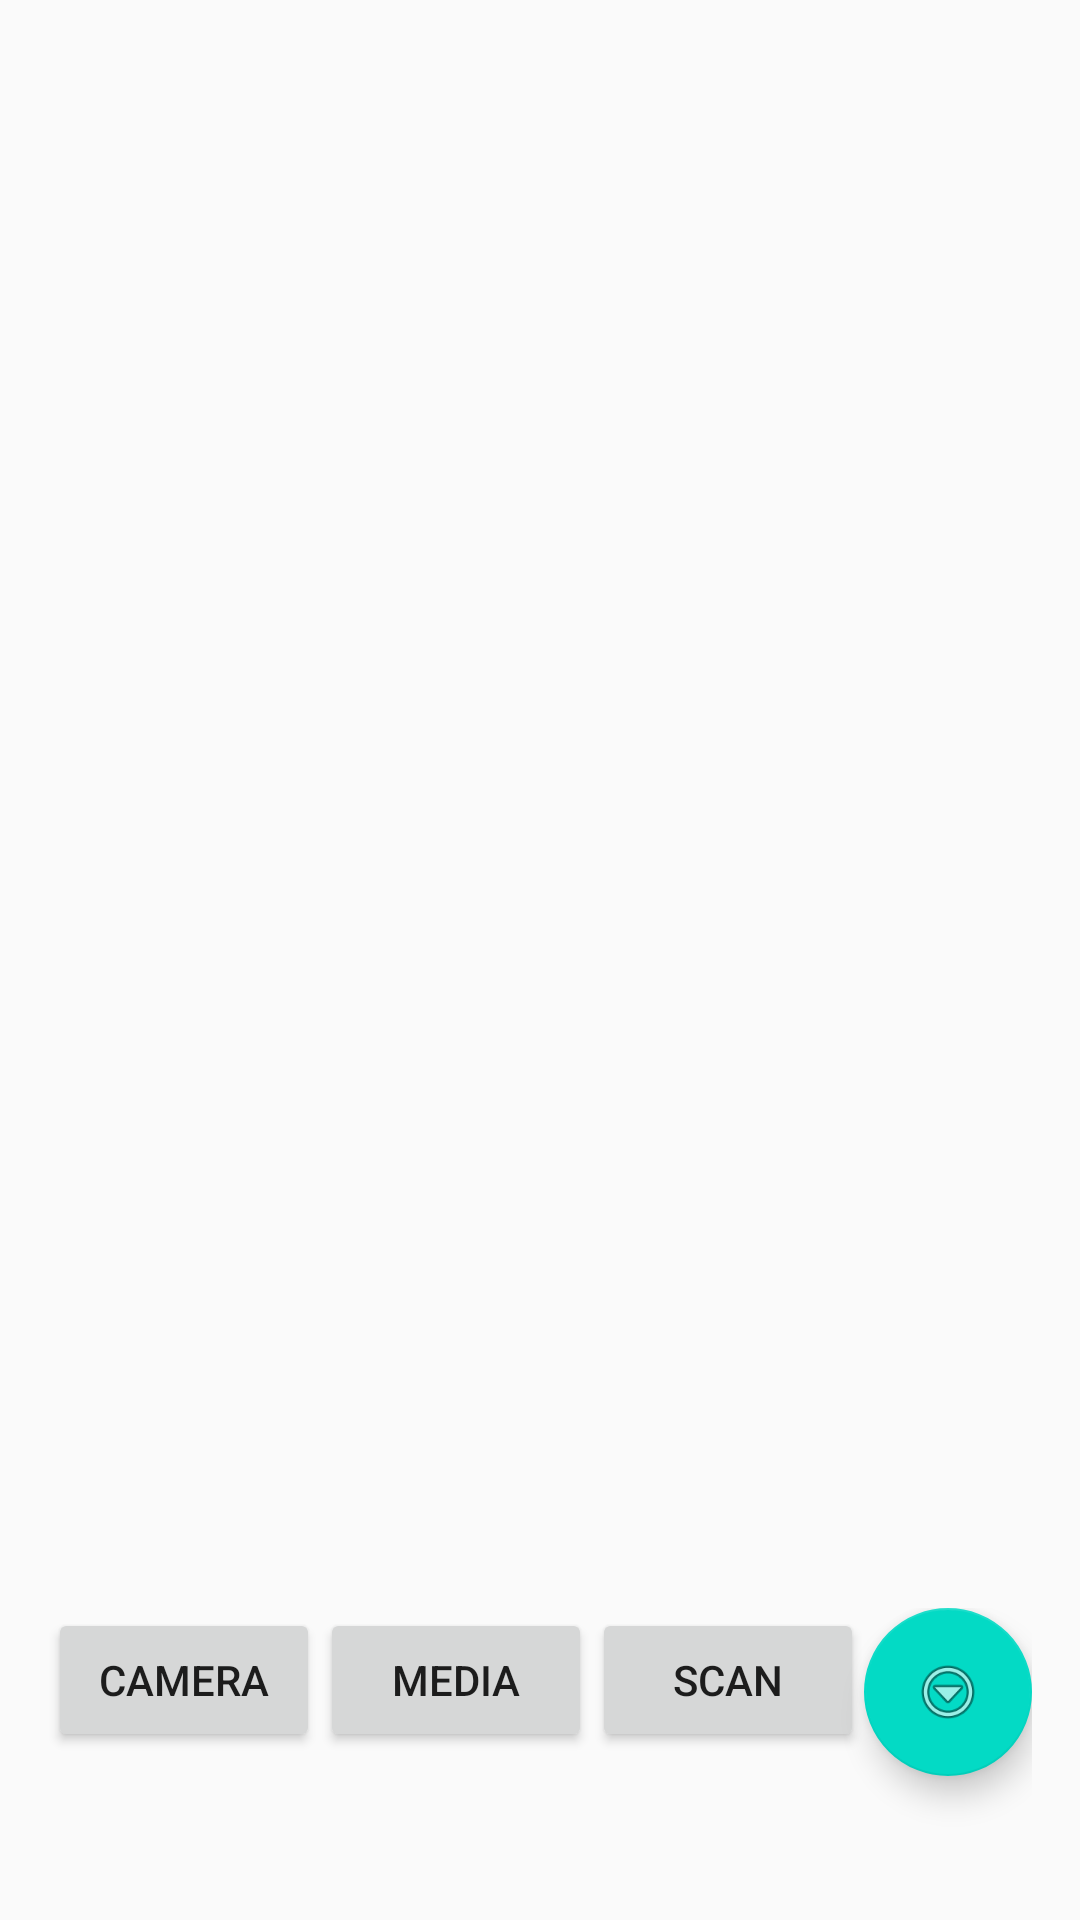

Icon bounding boxes for this 1080px x 1920px phone screenshot, format (x1, y1, x2, y2):
more: (864, 1608, 1032, 1776)
